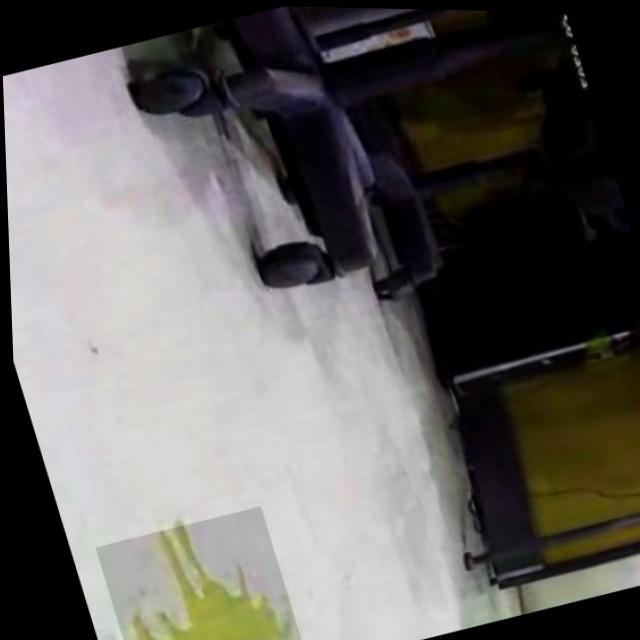spillage: (129, 525, 296, 640)
